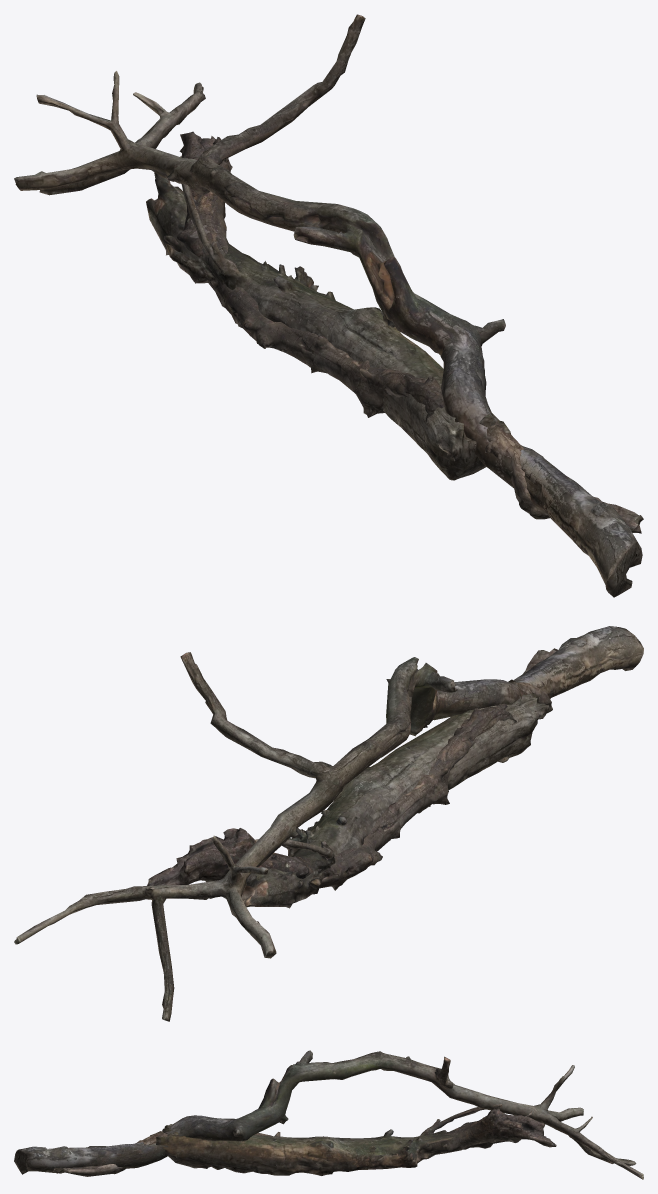
The model's file is dry_branches_medium_01.glb.
3 renders of one model, top to bottom at view 1: azimuth 30°, elevation 25°; view 2: azimuth 150°, elevation 25°; view 3: azimuth 270°, elevation 25°, orthographic. The views are drawn at different scales.
Visible parts, largest first — view 1: dry_branches_medium_01_a_lod0, dry_branches_medium_01_c_lod0, dry_branches_medium_01_b_lod0; view 2: dry_branches_medium_01_a_lod0, dry_branches_medium_01_c_lod0, dry_branches_medium_01_b_lod0; view 3: dry_branches_medium_01_a_lod0, dry_branches_medium_01_c_lod0, dry_branches_medium_01_b_lod0.
Boxes of the visible parts, left/top/right/bottom form: dry_branches_medium_01_a_lod0: left=14, top=14, right=642, bottom=597; dry_branches_medium_01_c_lod0: left=146, top=156, right=510, bottom=480; dry_branches_medium_01_b_lod0: left=177, top=131, right=643, bottom=533; dry_branches_medium_01_a_lod0: left=14, top=626, right=643, bottom=1021; dry_branches_medium_01_c_lod0: left=241, top=679, right=548, bottom=908; dry_branches_medium_01_b_lod0: left=147, top=648, right=557, bottom=890; dry_branches_medium_01_a_lod0: left=14, top=1050, right=643, bottom=1179; dry_branches_medium_01_c_lod0: left=156, top=1104, right=532, bottom=1175; dry_branches_medium_01_b_lod0: left=53, top=1108, right=556, bottom=1176.
Size of what is drawn, in the model's own units: 0.3231 by 0.341 by 1.3.
1 material, 1 textured.
